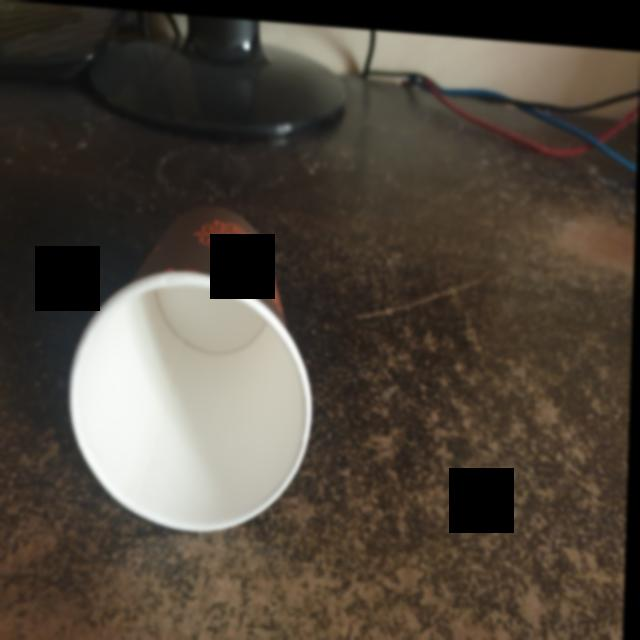cups: (65, 186, 327, 542)
